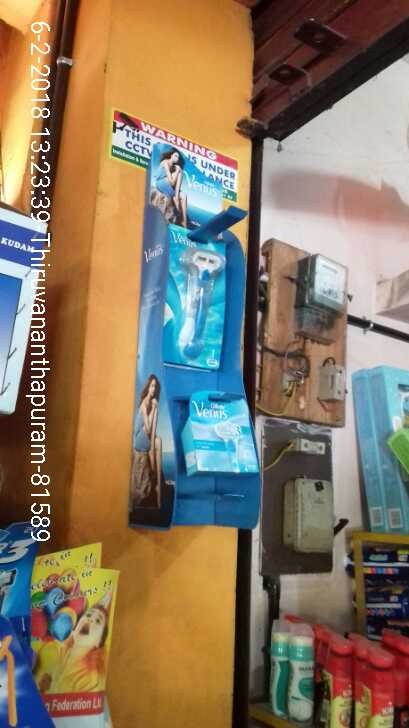venus: (166, 223, 228, 369), (179, 385, 266, 481)
